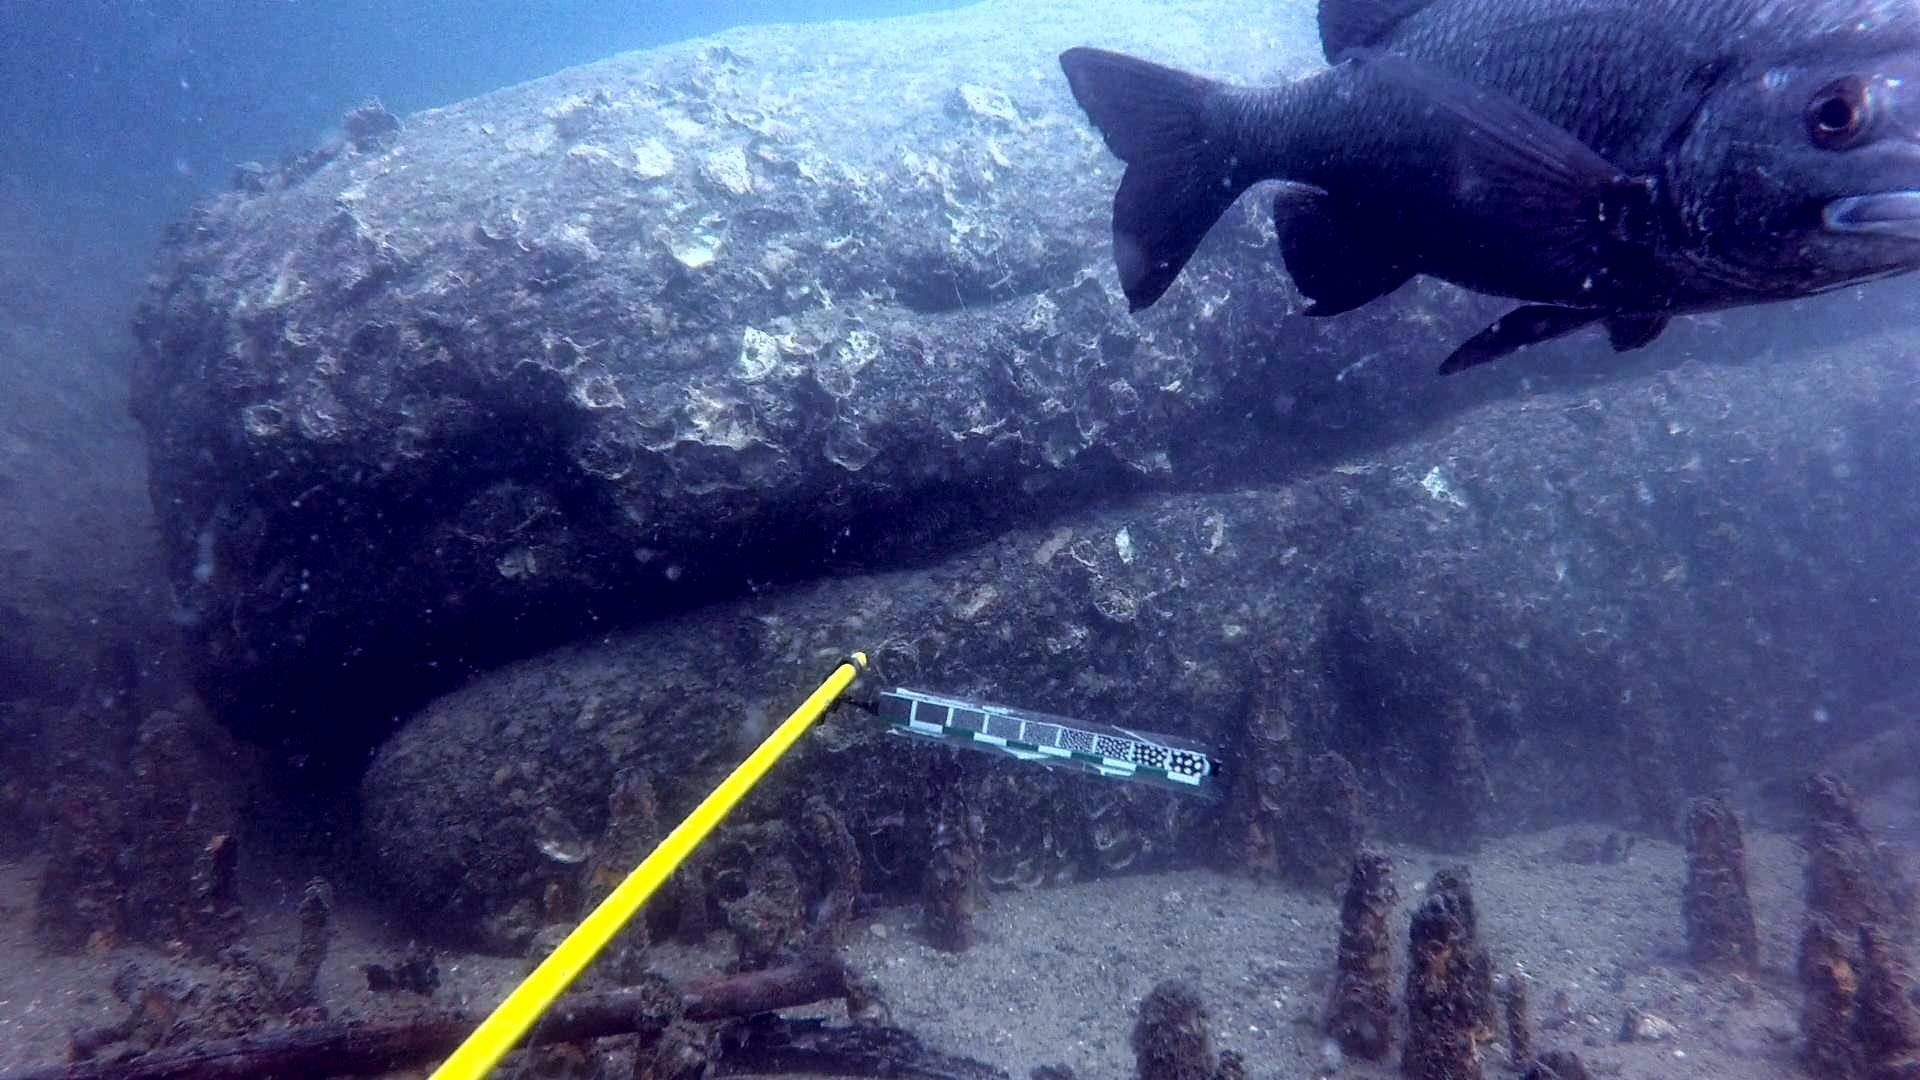acanthopagrus palmaris: (1054, 0, 1920, 382)
